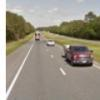cars: (66, 45, 93, 66)
